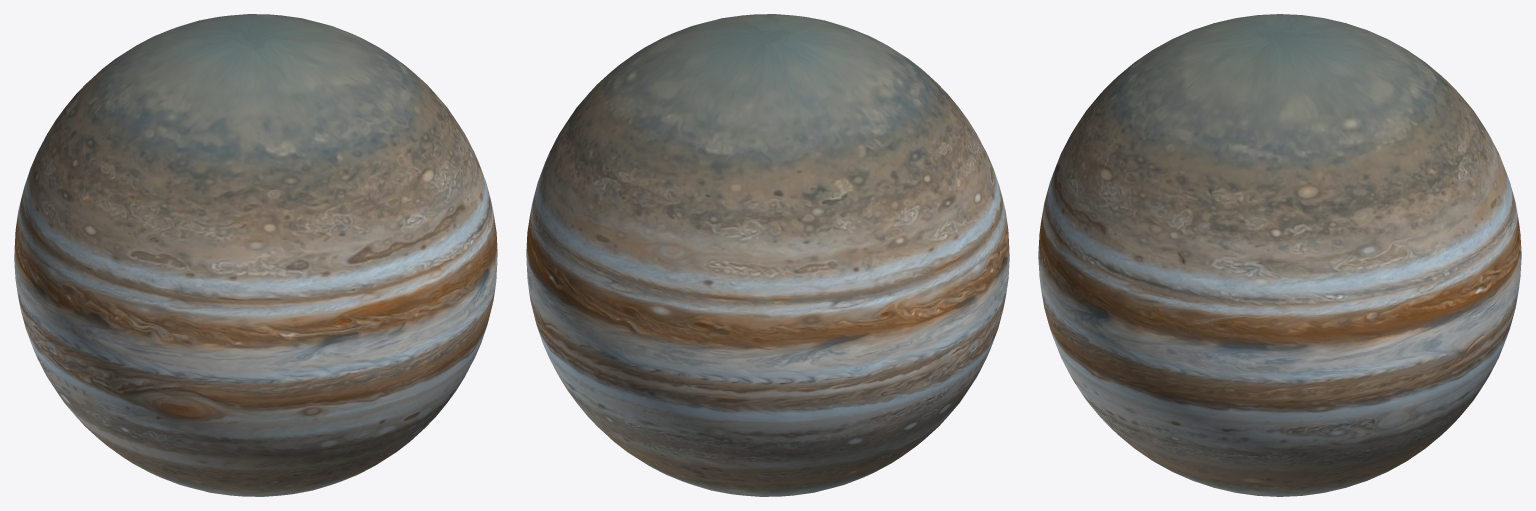
File: jupiter.glb
The picture shows the model from 3 angles, left to right: view 1: azimuth 30°, elevation 25°; view 2: azimuth 150°, elevation 25°; view 3: azimuth 270°, elevation 25°; orthographic projection.
Parts seen in each view (by area): view 1: JUPITER_0; view 2: JUPITER_0; view 3: JUPITER_0.
Boxes of the visible parts, x1,y1,x2,y2 form: JUPITER_0: (14, 14, 497, 496); JUPITER_0: (526, 14, 1009, 496); JUPITER_0: (1038, 14, 1521, 496).
Bounding box in the file's own units: 3.46 × 3.46 × 3.46.
Materials: 1 (1 with a texture image).
